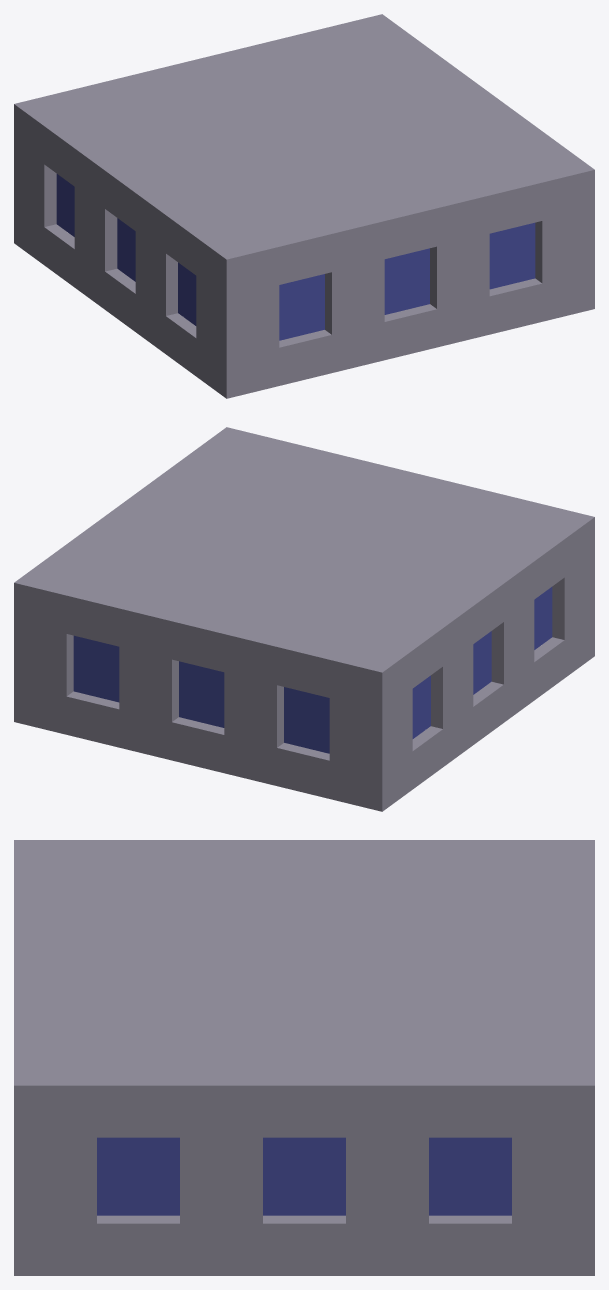
The model's file is toit.obj.
3 views of the same model, one above another, from view 1: azimuth 30°, elevation 25°; view 2: azimuth 150°, elevation 25°; view 3: azimuth 270°, elevation 25° (orthographic). The views are drawn at different scales.
Parts seen in each view (by area): view 1: Cube, Cube.001; view 2: Cube, Cube.001; view 3: Cube, Cube.001.
Part boxes in pixels (box(x1,y1,x2,y2)): Cube: box(14, 14, 594, 398); Cube.001: box(56, 174, 535, 340); Cube: box(14, 427, 594, 811); Cube.001: box(73, 587, 552, 753); Cube: box(14, 840, 594, 1275); Cube.001: box(97, 1137, 511, 1215).
Size of the model in its own units: 11.1 by 4.01 by 11.1.
